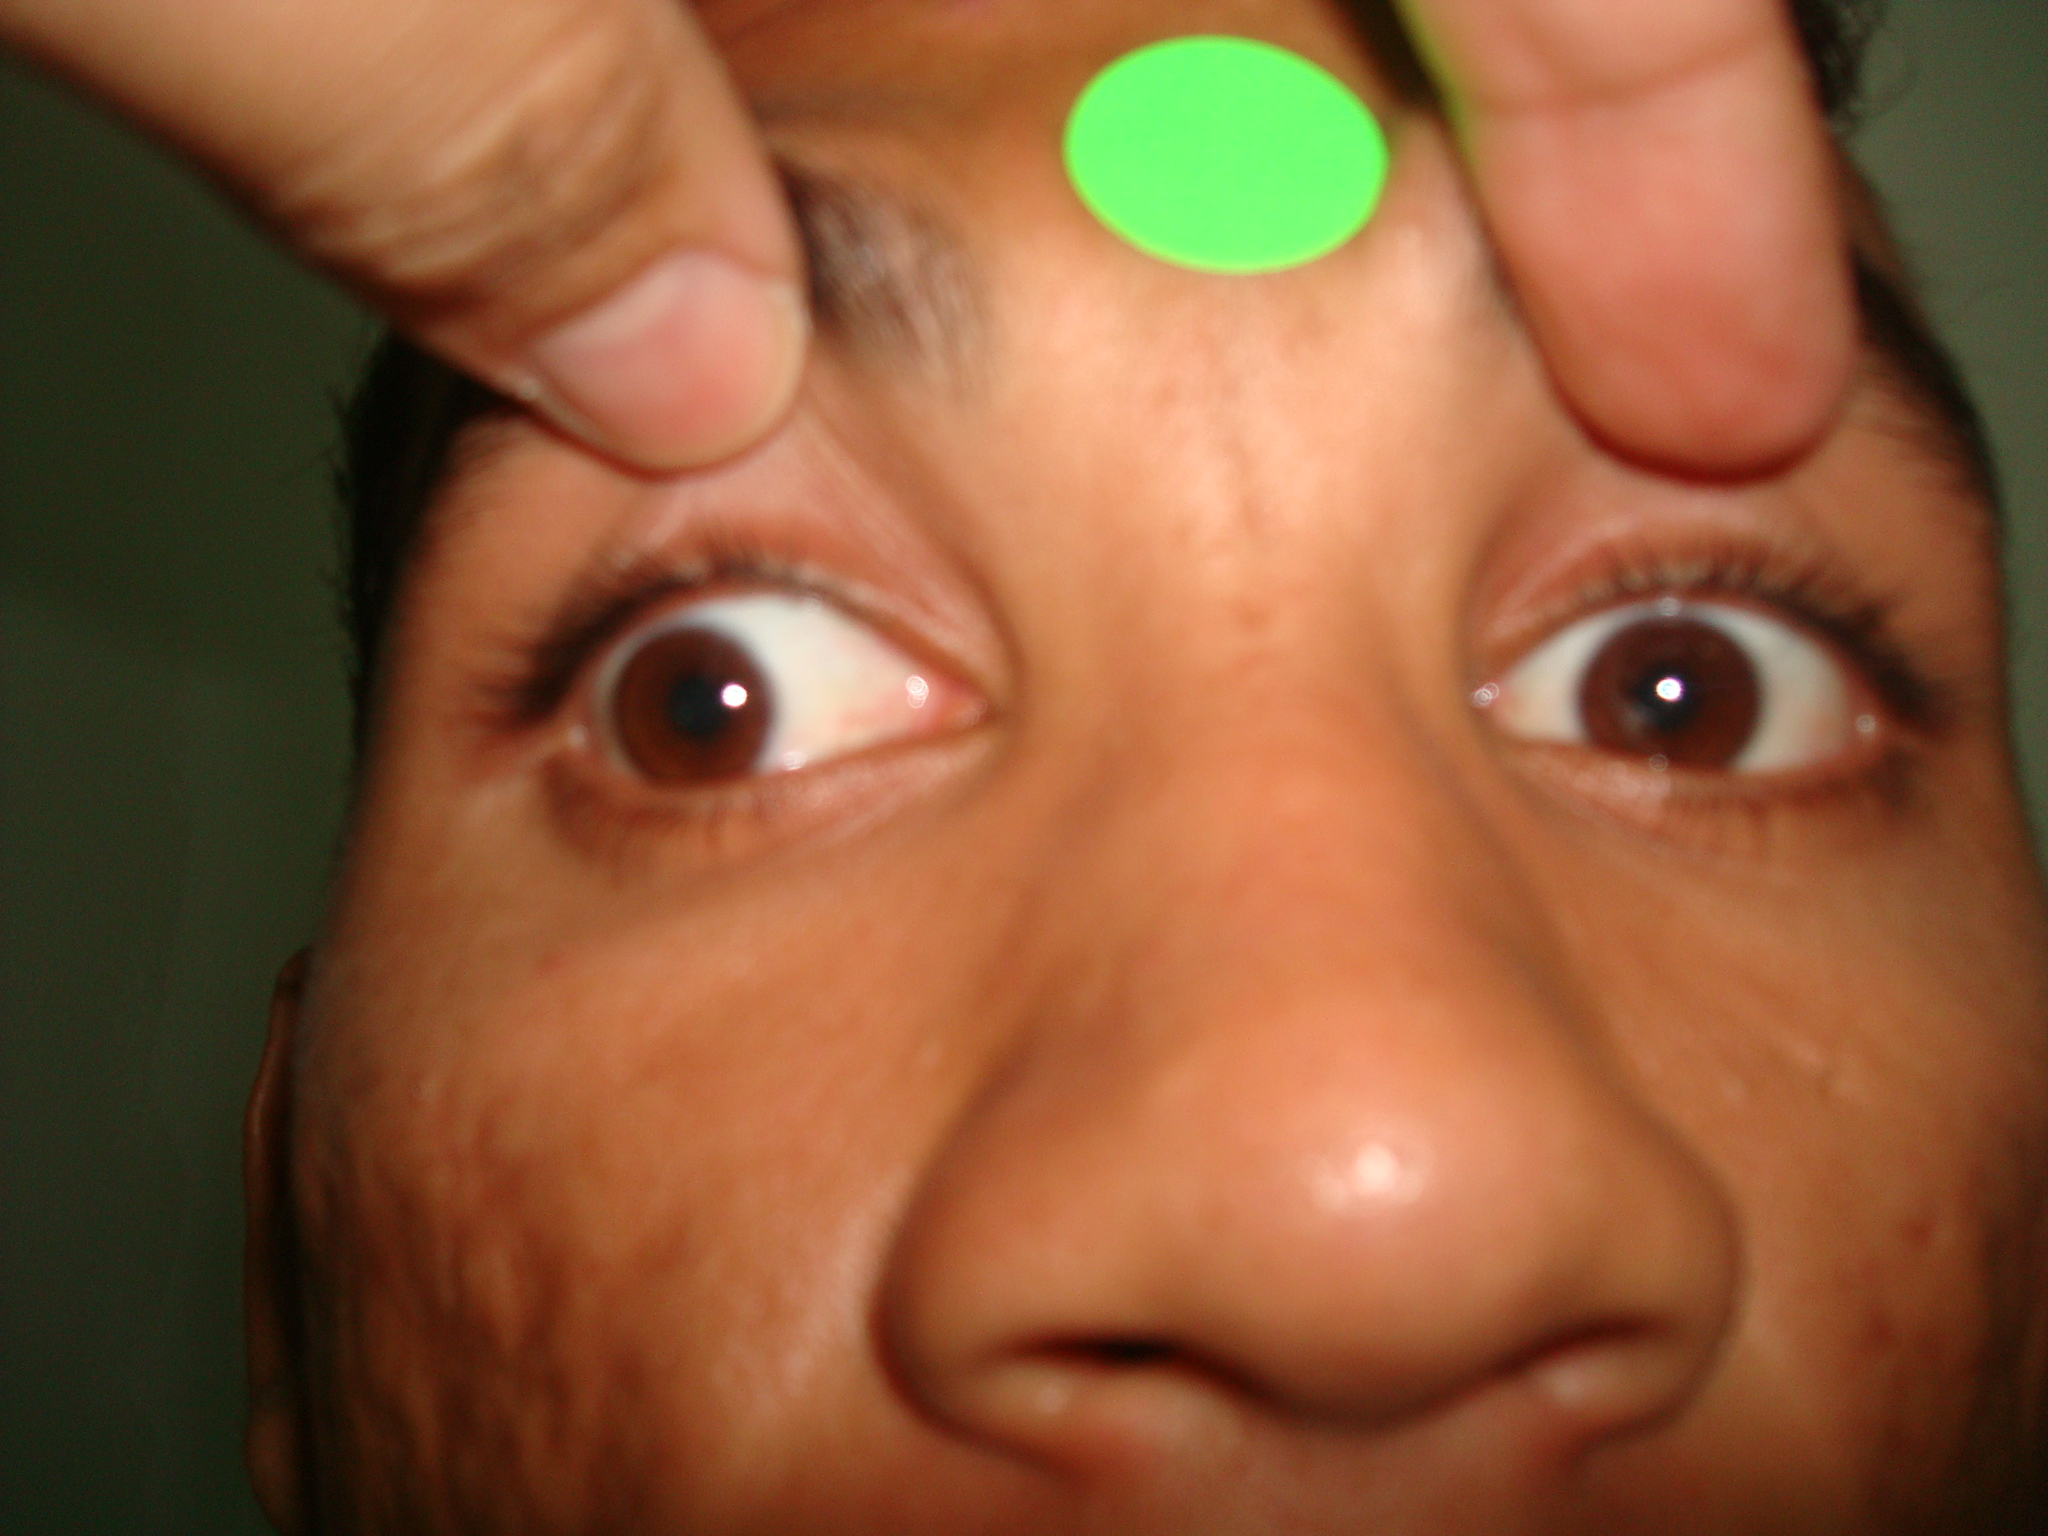flash: (716, 676, 751, 715), (1650, 673, 1685, 703)
limbo: (1579, 620, 1764, 778), (613, 631, 772, 783)
